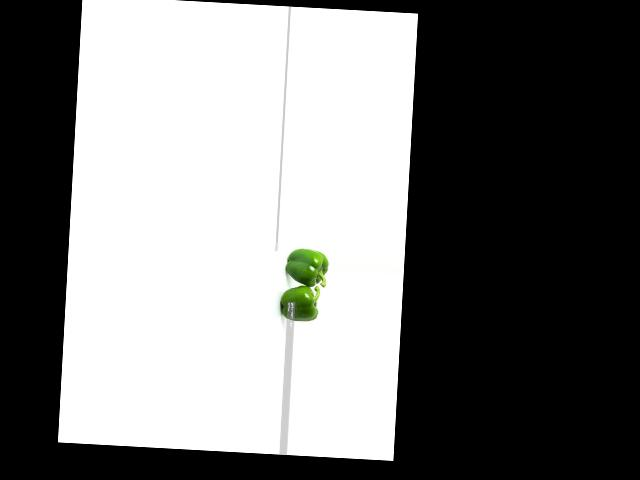bell_pepper: (278, 247, 331, 286)
